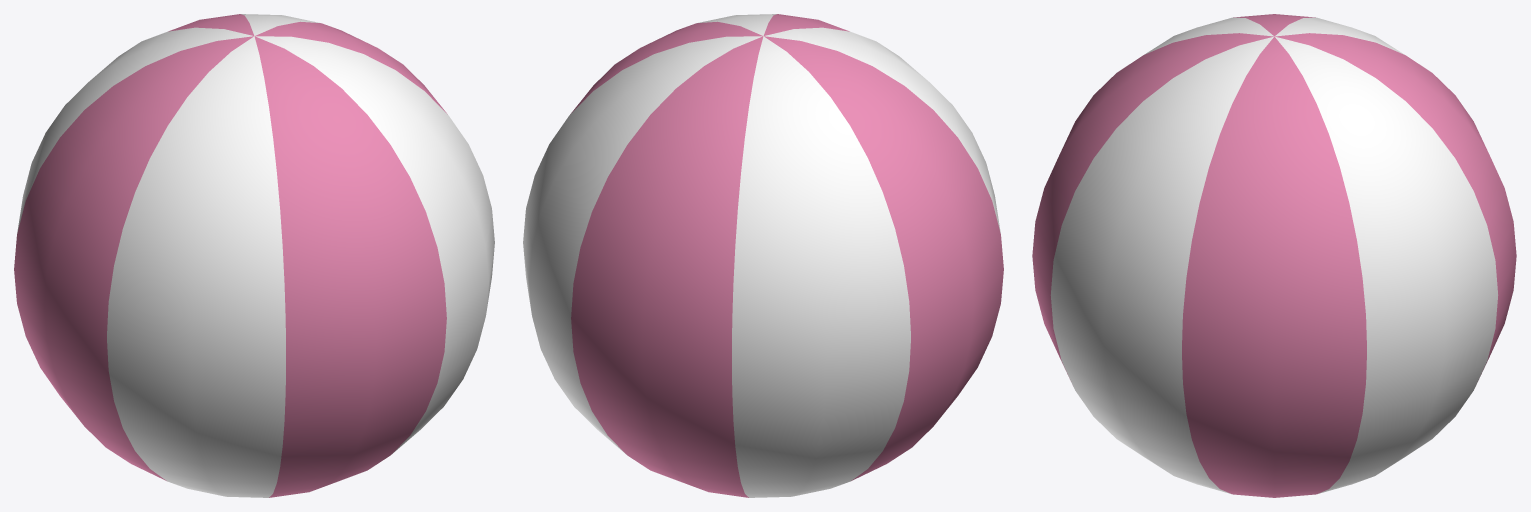
The model's file is beachball.fbx.
The picture shows the model from 3 angles, left to right: view 1: azimuth 30°, elevation 25°; view 2: azimuth 150°, elevation 25°; view 3: azimuth 270°, elevation 25°; orthographic projection.
Visible parts, largest first — view 1: pSphere1; view 2: pSphere1; view 3: pSphere1.
Boxes of the visible parts, x1=… form: pSphere1: x1=14, y1=14, x2=494, y2=497; pSphere1: x1=523, y1=14, x2=1003, y2=497; pSphere1: x1=1032, y1=14, x2=1516, y2=497.
Bounding box in the file's own units: 28.02 × 28.02 × 28.02.
